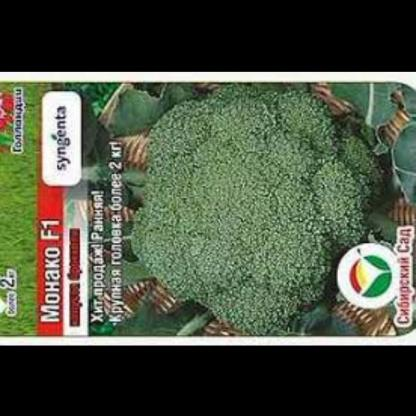broccoli: (130, 81, 389, 336)
